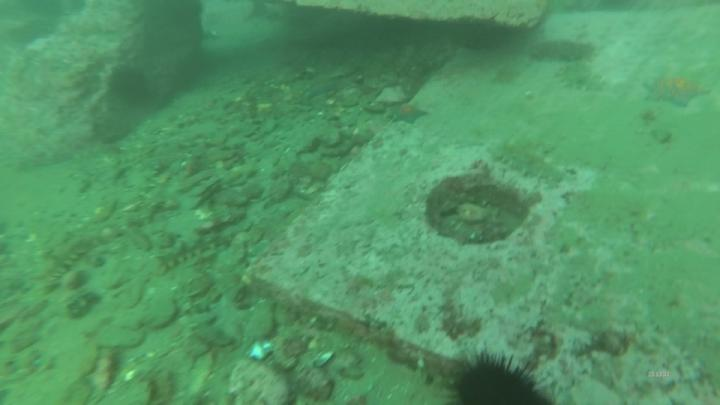echinus: (443, 345, 556, 405), (104, 63, 153, 109)
holothurian: (42, 234, 105, 288), (494, 143, 567, 186), (155, 231, 218, 277)
starfish: (640, 70, 712, 109), (390, 100, 431, 127)
